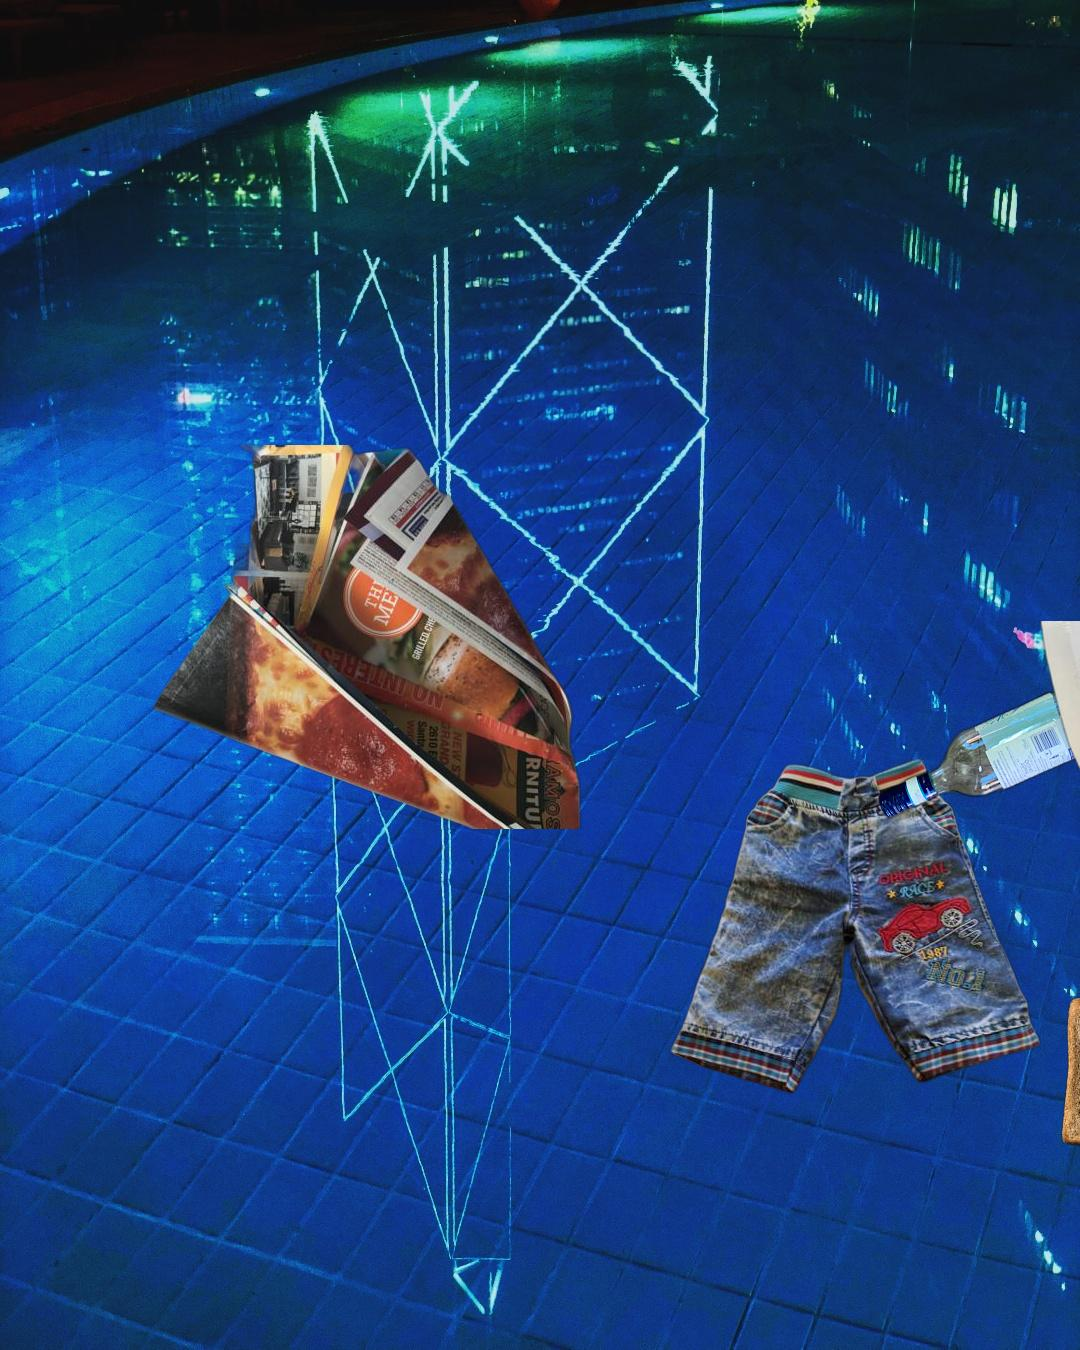biological: (1058, 995, 1080, 1156)
clothes: (667, 754, 1044, 1098)
glass: (874, 662, 1080, 825)
paper: (119, 445, 585, 829), (1034, 622, 1080, 998)
